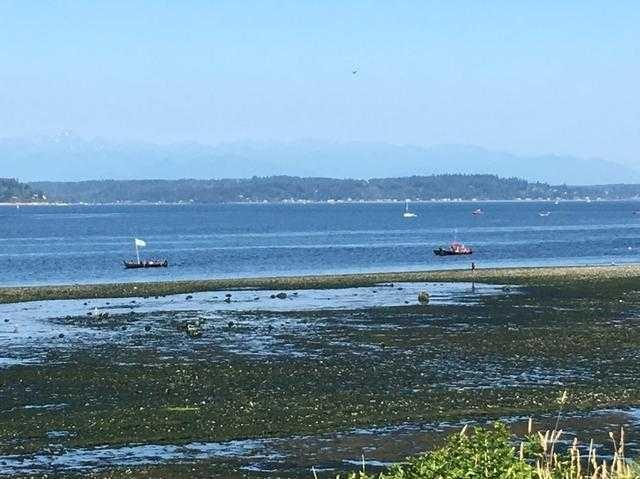kayak: (121, 237, 169, 268), (432, 238, 473, 256), (400, 199, 417, 218), (537, 207, 552, 216), (471, 207, 483, 216)
